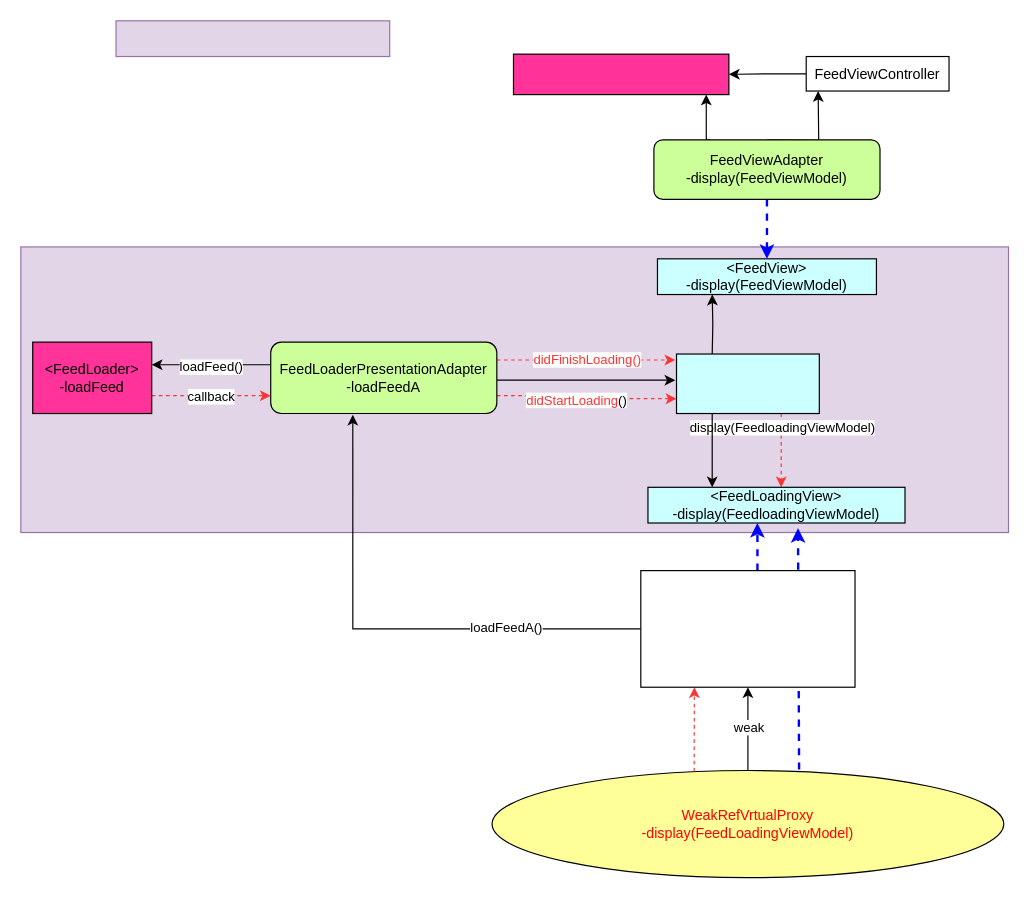
This 1029x908 diagram has some shape labels left out. The shapes that lost their labels are listed below. From the top down, each one's centre as x and y in pixels, then its label:
At [252,38]: "MVP".
At [620,74]: "<FeedImageDataLoader>".
At [747,383]: "Presenter".
At [747,628]: "FeedRefreshViewController -display(model){ updateView}".
